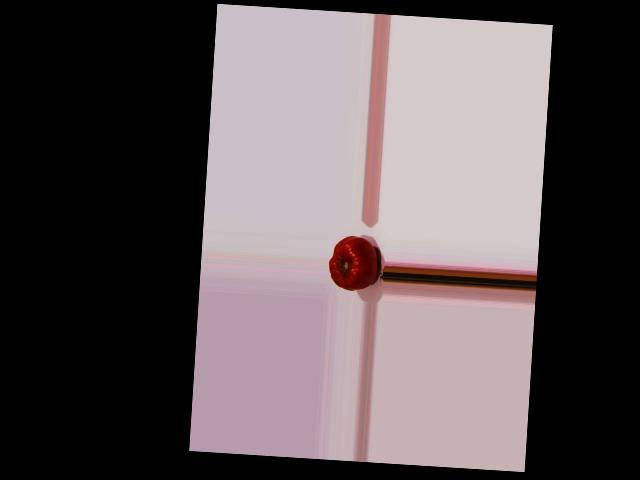tomato: (328, 235, 379, 291)
